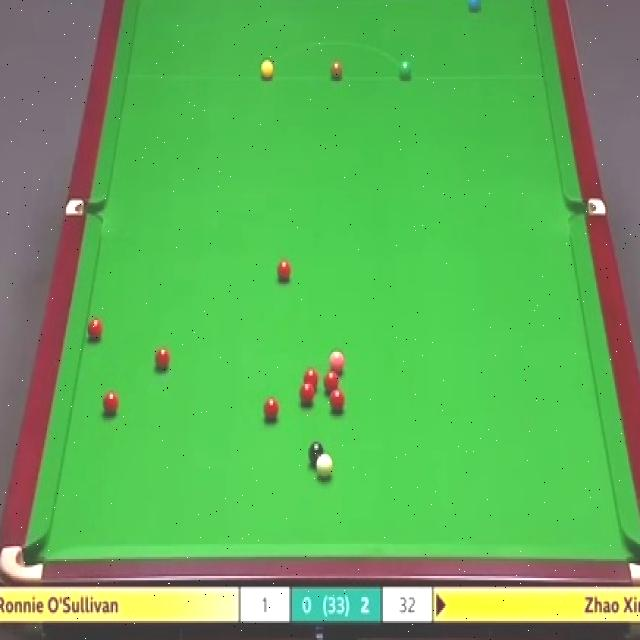black-ball: (307, 440, 326, 471)
blue-ball: (466, 0, 482, 13)
brown-ball: (329, 61, 344, 82)
green-ball: (398, 60, 413, 83)
pink-ball: (326, 348, 345, 374)
red-ball: (102, 390, 120, 419), (298, 382, 316, 408), (153, 348, 171, 374), (276, 258, 293, 284), (86, 317, 102, 343), (264, 396, 278, 424), (302, 368, 319, 390), (330, 388, 345, 412), (323, 372, 340, 392)
white-ball: (314, 452, 332, 483)
yellow-ball: (260, 59, 275, 81)
